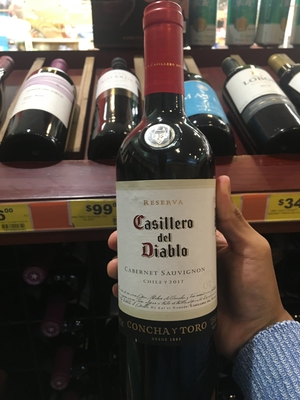casillero del diablo cabernet sauvignon: (114, 6, 234, 384)
